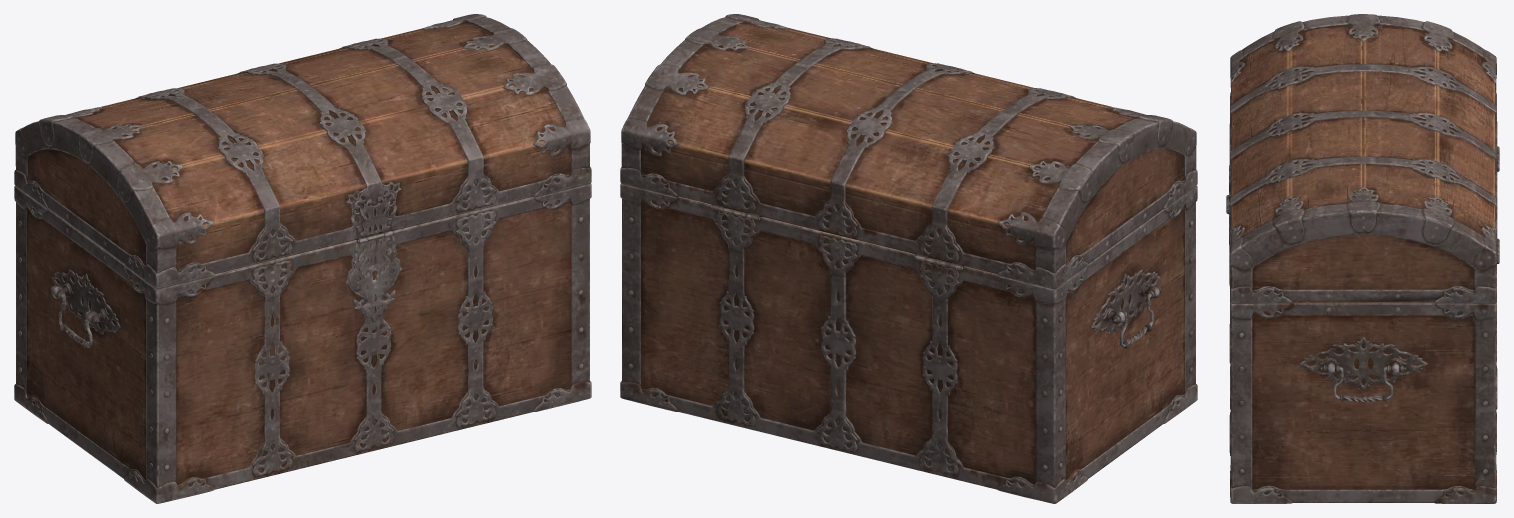
The model's file is treasure_chest.glb.
3 renders of one model, left to right at view 1: azimuth 30°, elevation 25°; view 2: azimuth 150°, elevation 25°; view 3: azimuth 270°, elevation 25°, orthographic. The views are drawn at different scales.
Parts seen in each view (by area): view 1: treasure_chest_bottom; view 2: treasure_chest_bottom; view 3: treasure_chest_bottom.
Boxes of the visible parts, left/top/right/bottom form: treasure_chest_bottom: left=14, top=14, right=591, bottom=503; treasure_chest_bottom: left=620, top=14, right=1197, bottom=503; treasure_chest_bottom: left=1226, top=14, right=1499, bottom=503.
Size of the model in its own units: 0.959 by 0.619 by 0.5229.
1 material, 1 textured.
